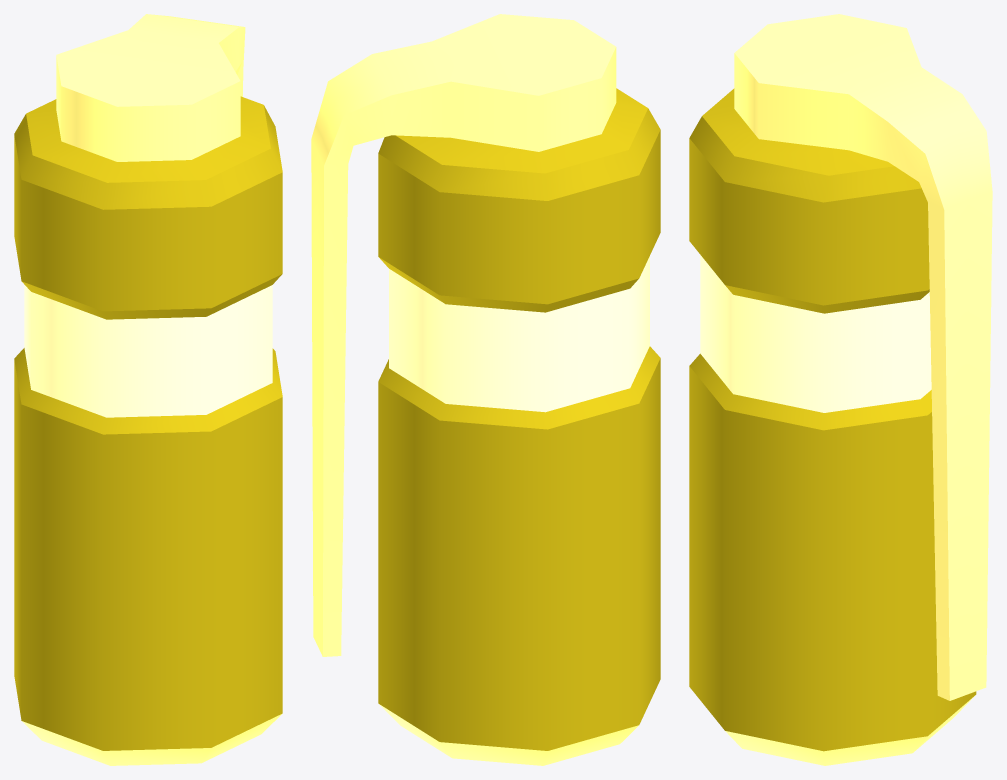
The model's file is Granate_Yellow.glb.
The picture shows the model from 3 angles, left to right: view 1: azimuth 30°, elevation 25°; view 2: azimuth 150°, elevation 25°; view 3: azimuth 270°, elevation 25°; orthographic projection.
Parts seen in each view (by area): view 1: Granate_Yellow_3.001; view 2: Granate_Yellow_3.001; view 3: Granate_Yellow_3.001.
Boxes of the visible parts, x1,y1,x2,y2 form: Granate_Yellow_3.001: (14, 14, 282, 765); Granate_Yellow_3.001: (311, 14, 660, 765); Granate_Yellow_3.001: (689, 14, 992, 765).
Size of the model in its own units: 0.2738 by 0.625 by 0.2604.
Materials: 1 (1 with a texture image).
